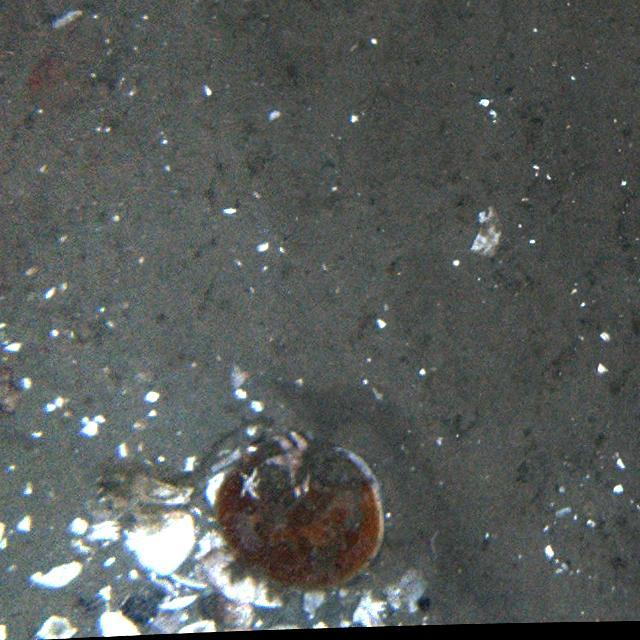scallop: (224, 430, 391, 586)
